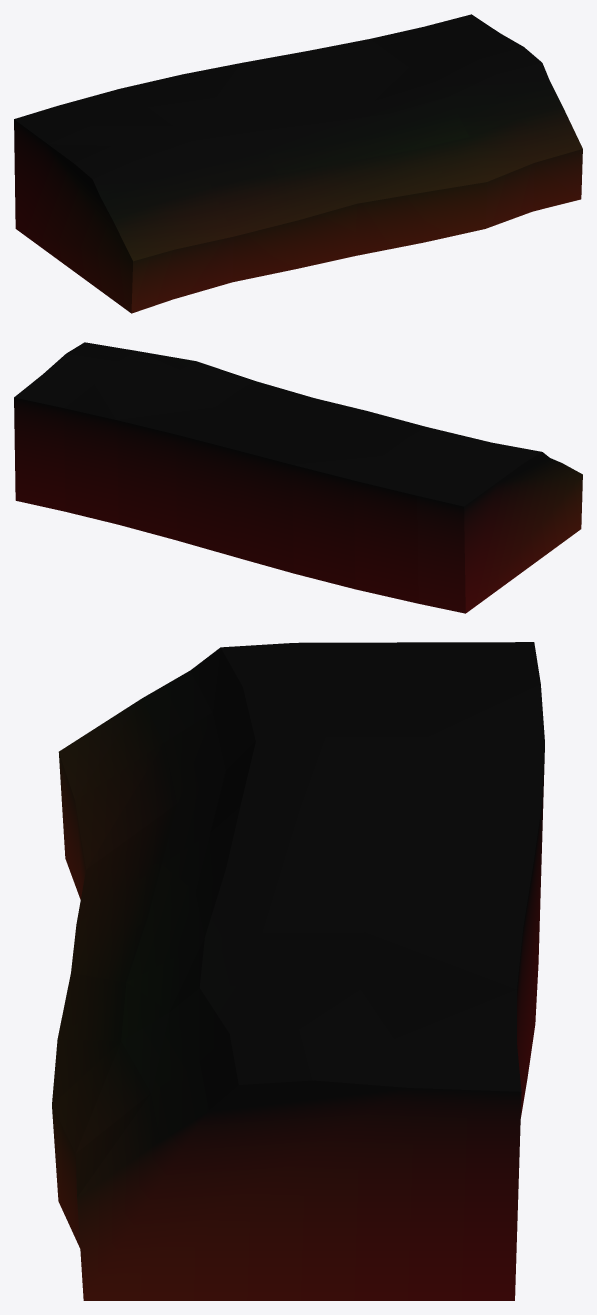
File: SM_ShoreBank_Low_01.fbx
3 renders of one model, top to bottom at view 1: azimuth 30°, elevation 25°; view 2: azimuth 150°, elevation 25°; view 3: azimuth 270°, elevation 25°, orthographic. The views are drawn at different scales.
Visible parts, largest first — view 1: SM_ShoreBank_Low_01; view 2: SM_ShoreBank_Low_01; view 3: SM_ShoreBank_Low_01.
Boxes of the visible parts, x1=… form: SM_ShoreBank_Low_01: x1=14, y1=14, x2=582, y2=313; SM_ShoreBank_Low_01: x1=14, y1=342, x2=582, y2=613; SM_ShoreBank_Low_01: x1=52, y1=642, x2=544, y2=1300.
Bounding box in the file's own units: 4 × 1.88 × 0.9553.
